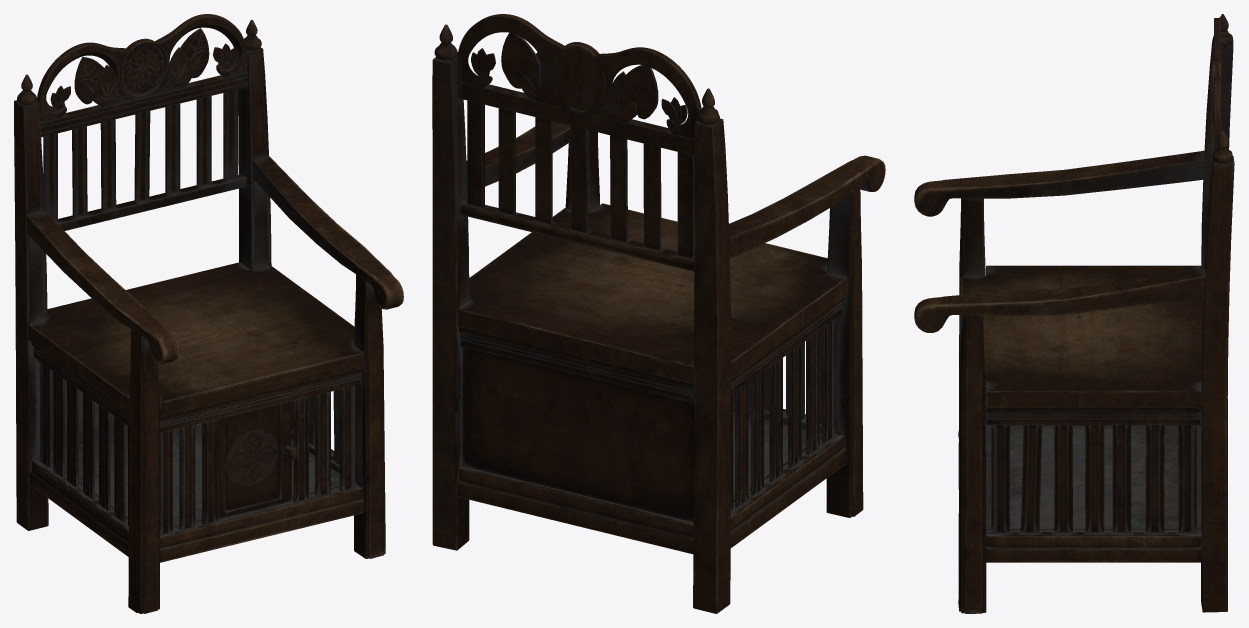
Rendered from gallinera_chair.glb.
3 renders of one model, left to right at view 1: azimuth 30°, elevation 25°; view 2: azimuth 150°, elevation 25°; view 3: azimuth 270°, elevation 25°, orthographic. The views are drawn at different scales.
Parts seen in each view (by area): view 1: gallinera_chair; view 2: gallinera_chair; view 3: gallinera_chair.
Boxes of the visible parts, x1,y1,x2,y2 form: gallinera_chair: (14, 14, 403, 613); gallinera_chair: (432, 14, 885, 613); gallinera_chair: (914, 14, 1234, 613).
Size of the model in its own units: 0.5808 by 1.03 by 0.6039.
Materials: 1 (1 with a texture image).
